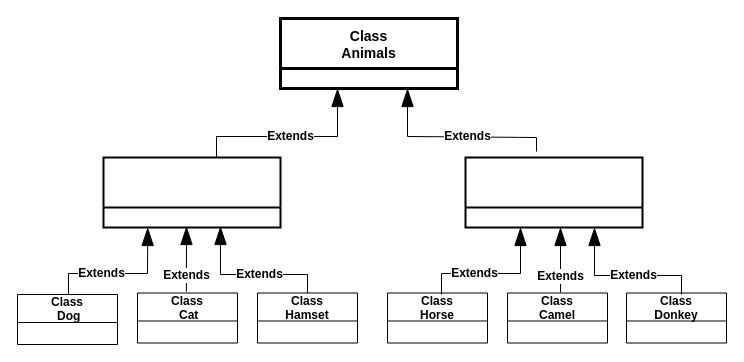
The diagram is 744 pixels wide and 362 high, and some of its shapes have lost their labels. Here are the shapes that lost their labels. From the top down, the centre of each, then its label:
At point (191, 192): "Class homeAnimals".
At point (553, 192): "Class packAnimals".
